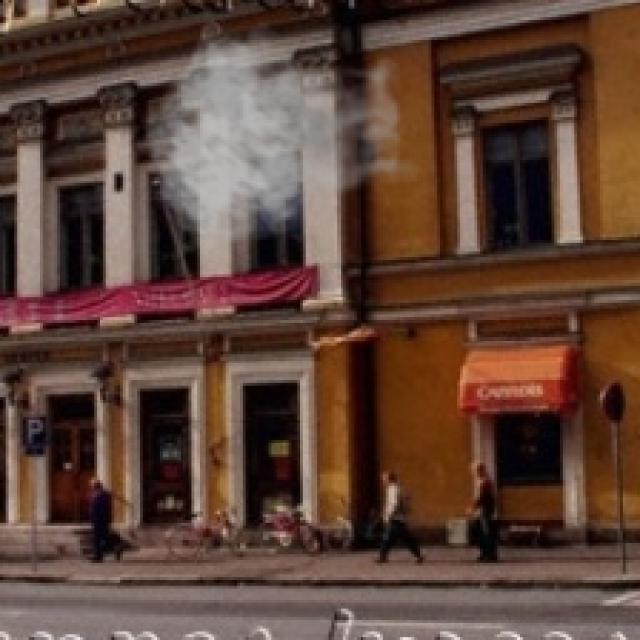Smoke: (143, 14, 423, 254)
